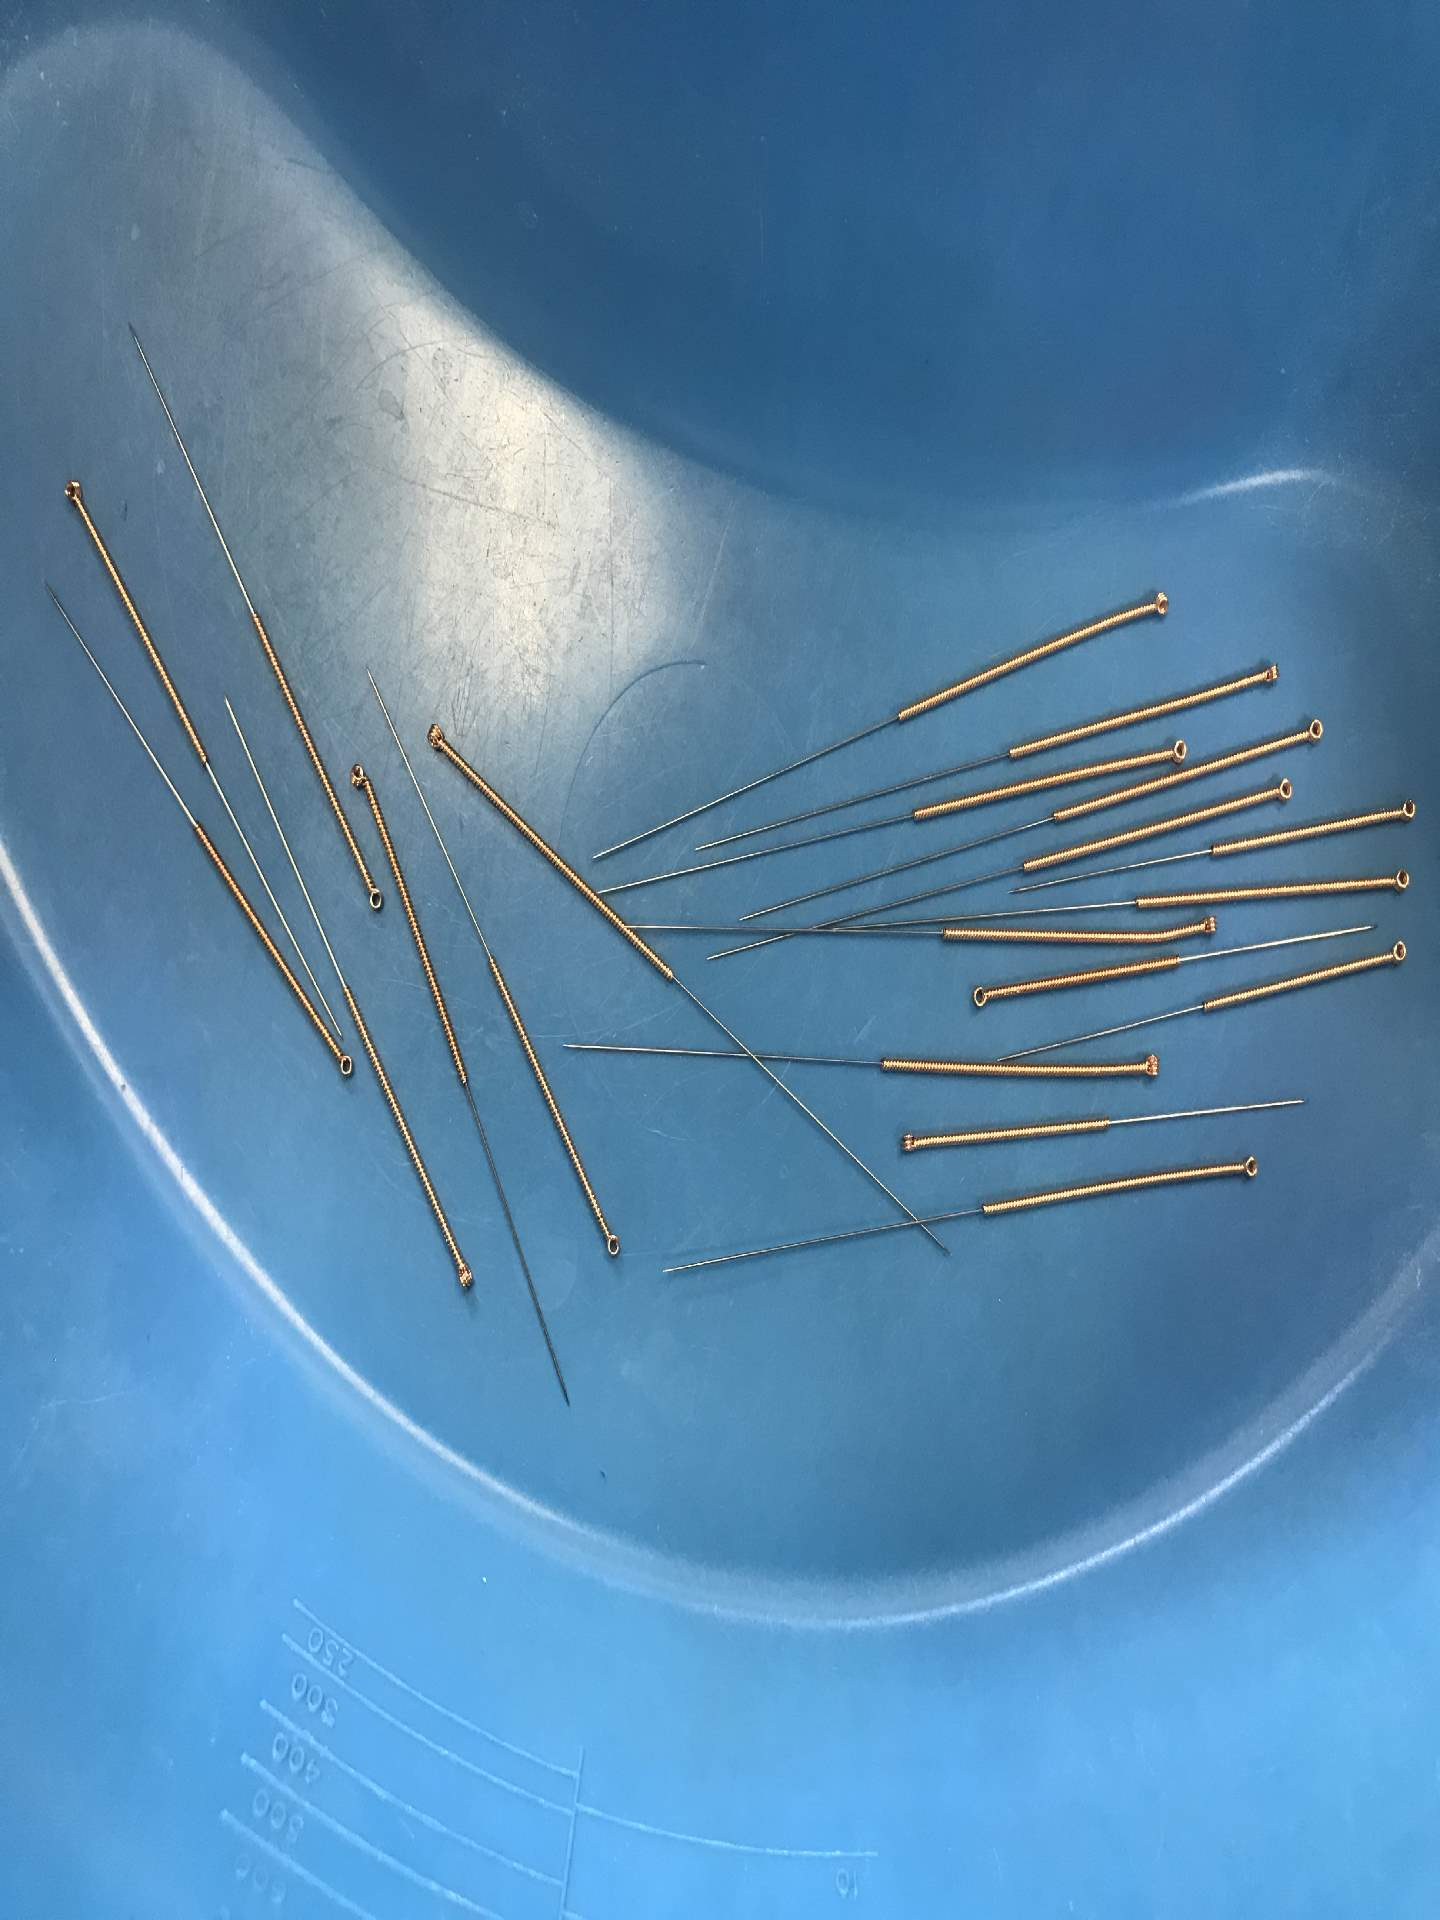needle: (445, 1252, 483, 1299), (889, 1123, 926, 1163), (417, 717, 452, 757), (1130, 1048, 1166, 1085), (1249, 655, 1286, 692), (1378, 934, 1414, 972), (1295, 709, 1330, 748), (1266, 770, 1301, 809), (54, 470, 88, 511), (327, 1045, 360, 1085), (1141, 581, 1174, 621), (358, 875, 389, 919), (1231, 1147, 1265, 1187), (964, 977, 997, 1016), (1159, 732, 1193, 768), (1383, 862, 1416, 900), (596, 1225, 628, 1264), (1189, 909, 1224, 942), (1390, 792, 1422, 828), (343, 757, 372, 795)
